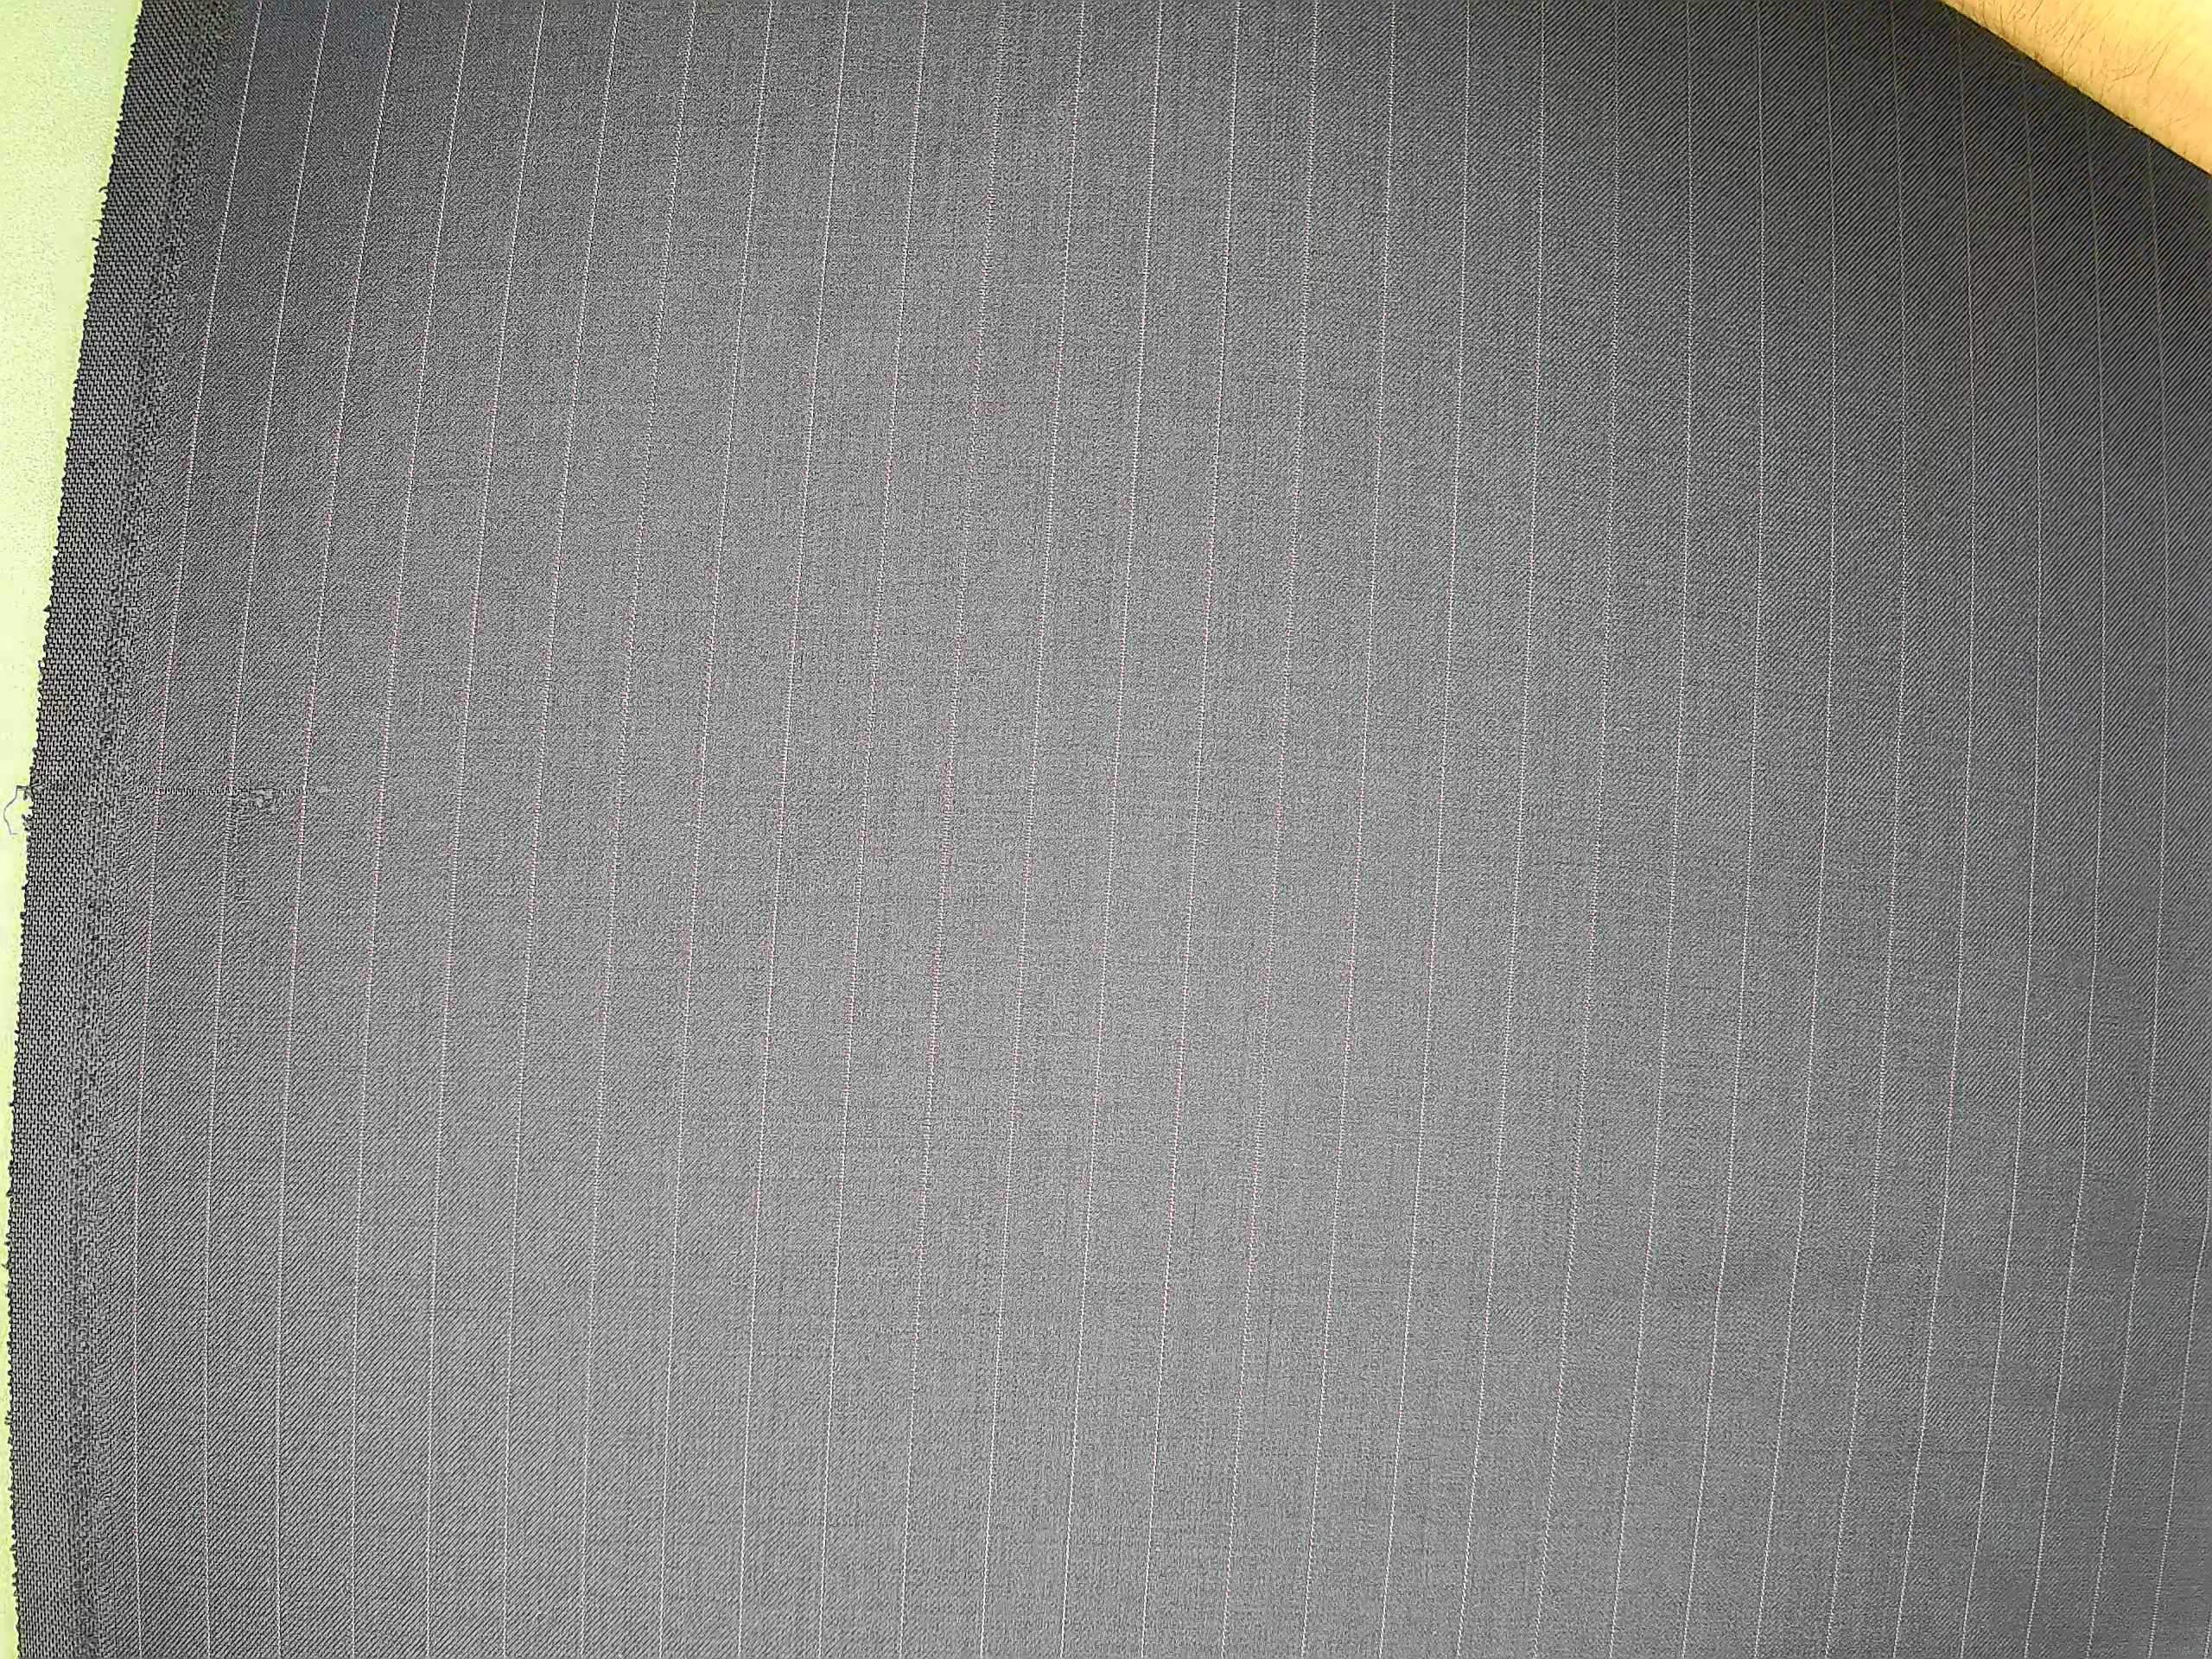others: (108, 739, 425, 840)
